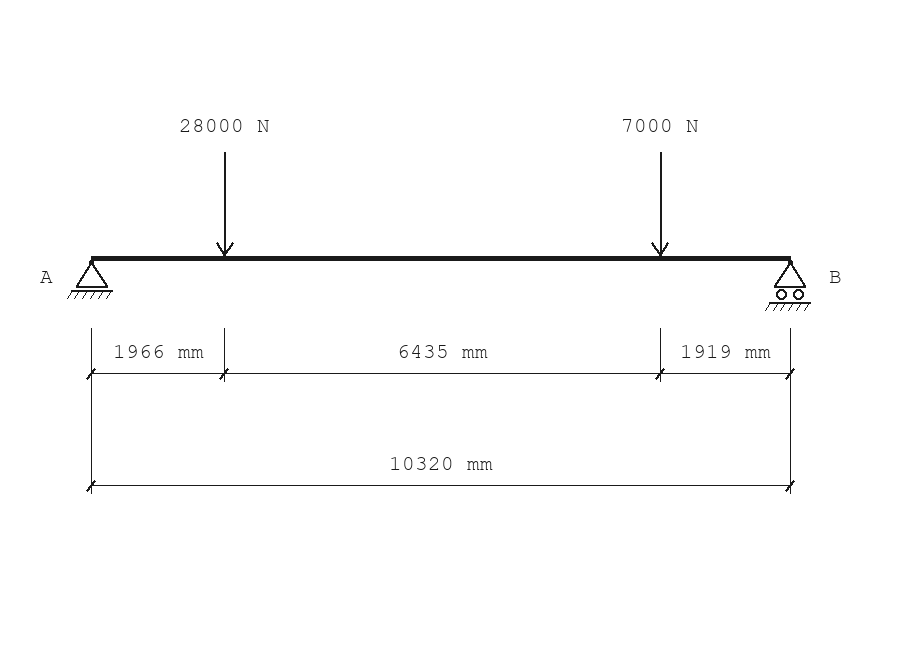pin_support: (67, 260, 113, 299)
point_load: (216, 152, 234, 257), (651, 152, 669, 257)
roller_support: (765, 260, 811, 311)
